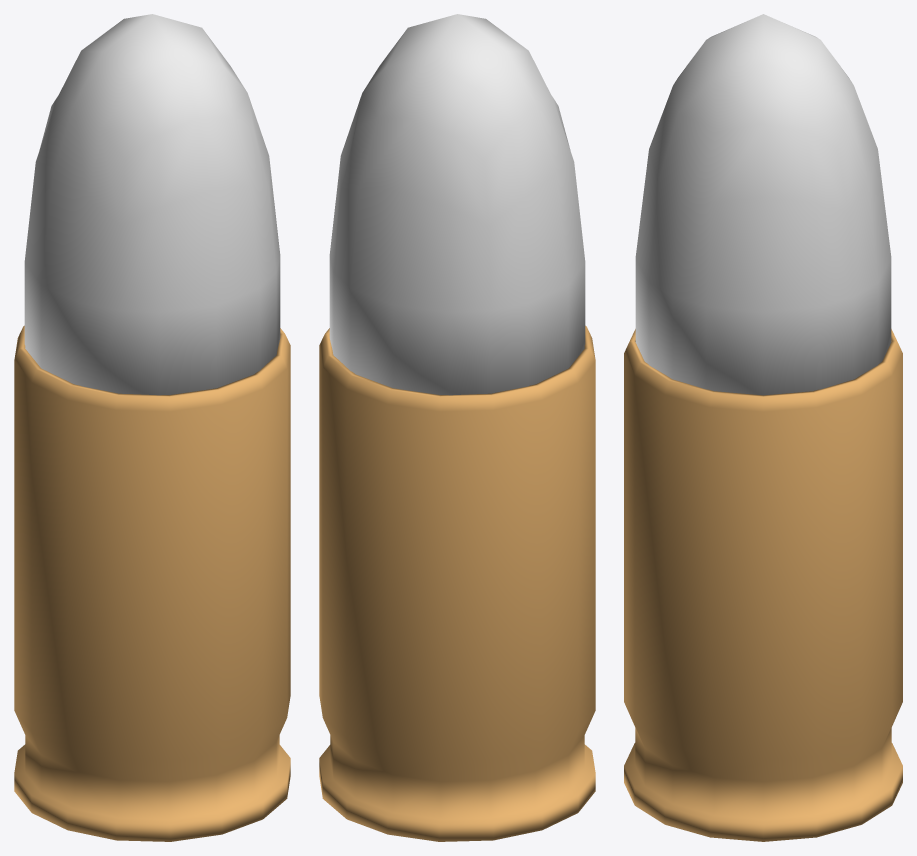
The model's file is Bullet+Shell.fbx.
The picture shows the model from 3 angles, left to right: view 1: azimuth 30°, elevation 25°; view 2: azimuth 150°, elevation 25°; view 3: azimuth 270°, elevation 25°; orthographic projection.
Parts seen in each view (by area): view 1: Shell.001, Bullet.003; view 2: Shell.001, Bullet.003; view 3: Shell.001, Bullet.003.
Boxes of the visible parts, x1=… form: Shell.001: x1=14, y1=325, x2=290, y2=841; Bullet.003: x1=24, y1=14, x2=280, y2=395; Shell.001: x1=319, y1=325, x2=595, y2=841; Bullet.003: x1=329, y1=14, x2=585, y2=395; Shell.001: x1=624, y1=329, x2=902, y2=841; Bullet.003: x1=635, y1=14, x2=891, y2=395.
Size of the model in its own units: 1.4 by 4.26 by 1.4.
